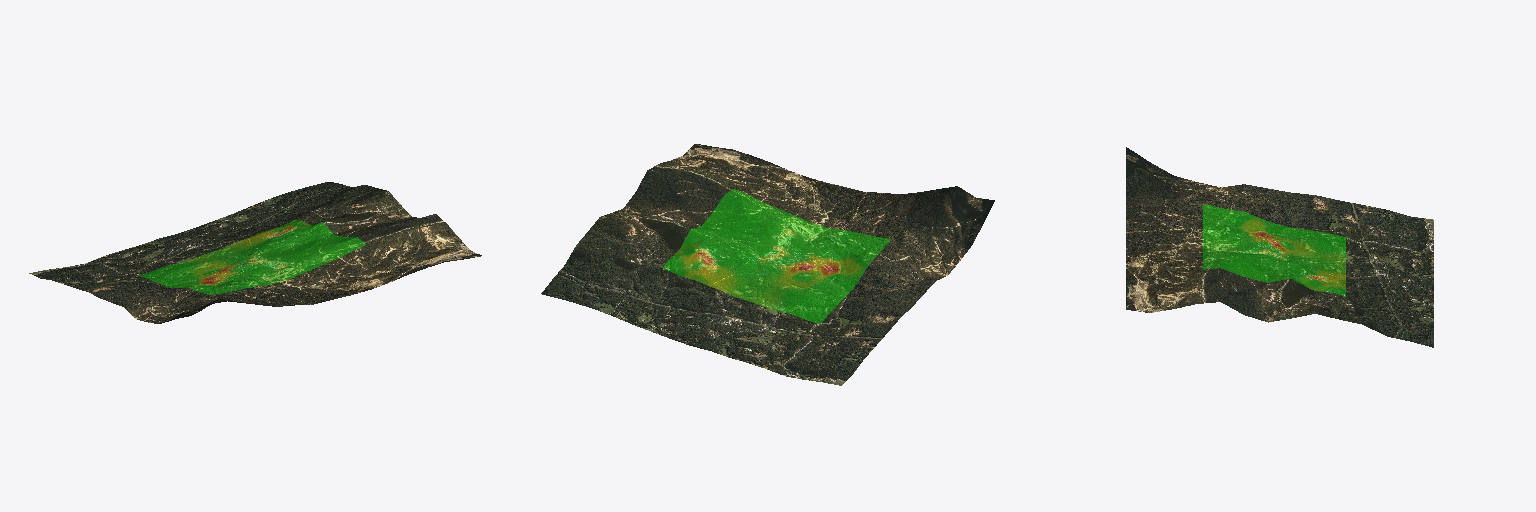
3 renders of one model, left to right at view 1: azimuth 30°, elevation 25°; view 2: azimuth 150°, elevation 25°; view 3: azimuth 270°, elevation 25°, orthographic.
Parts seen in each view (by area): view 1: inter_MetElipResi_2_inter_MetElipResi_2.001; view 2: inter_MetElipResi_2_inter_MetElipResi_2.001; view 3: inter_MetElipResi_2_inter_MetElipResi_2.001.
Part boxes in pixels (x1,y1,x2,y2): inter_MetElipResi_2_inter_MetElipResi_2.001: (29,182,481,323); inter_MetElipResi_2_inter_MetElipResi_2.001: (541,144,994,385); inter_MetElipResi_2_inter_MetElipResi_2.001: (1126,147,1433,347).
Size of the model in its own units: 21.95 by 5.73 by 19.48.
1 materials, 1 textured.